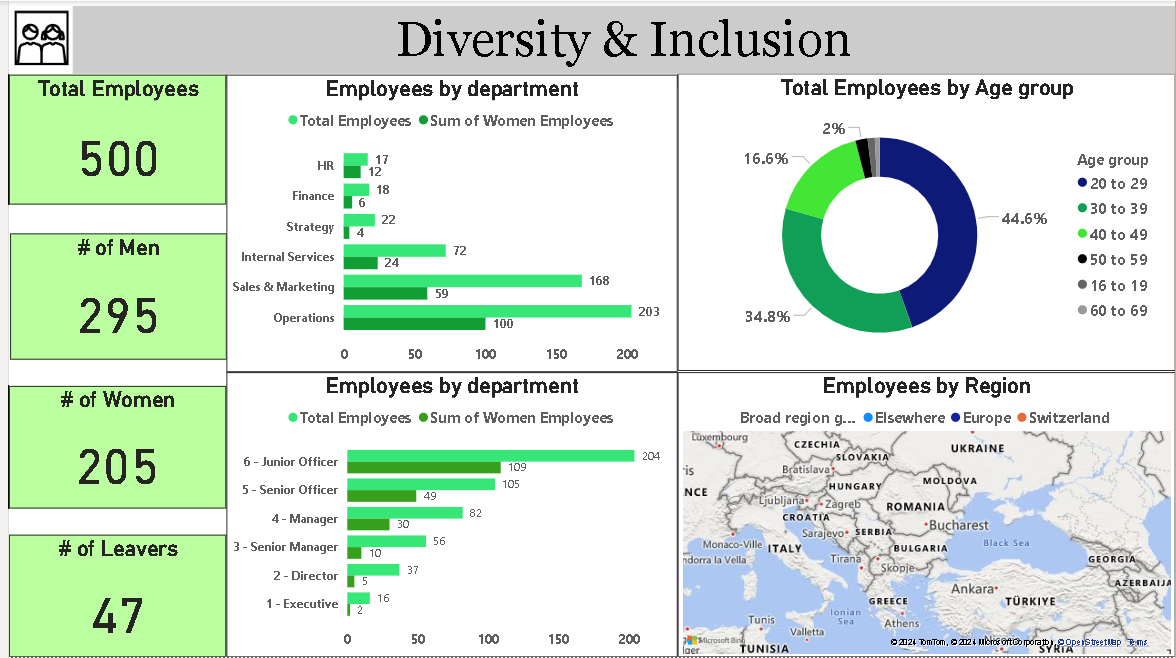

This screenshot's page, from the dashboard's own definition file:
{"tool":"powerbi","page":{"name":"Home","canvas":[1280,720],"ordinal":0},"visuals":[{"type":"card","title":"Total Employees","fields":{"Values":["Pharma Group AG.Total Employees"]},"box":[0,81,238.8,142.7],"z":0},{"type":"card","title":"# of Men","fields":{"Values":["Sum(Pharma Group AG.# of men)"]},"box":[1.4,255.2,237.4,138.6],"z":1000},{"type":"card","title":"# of Women","fields":{"Values":["Sum(Pharma Group AG.# of women)"]},"box":[0,422.6,238.8,134.5],"z":2000},{"type":"card","title":"# of Leavers","fields":{"Values":["Sum(Pharma Group AG.# of leavers)"]},"box":[0,585.9,238.8,134.5],"z":3000},{"type":"clusteredBarChart","title":"Employees by department","fields":{"Category":["Pharma Group AG.Department @01.07.2020"],"Y":["Pharma Group AG.Total Employees","Sum(Pharma Group AG.# of women)"]},"box":[238.8,81,495.4,326.6],"z":4000},{"type":"donutChart","fields":{"Y":["Pharma Group AG.Total Employees"],"Category":["Pharma Group AG.Age group"]},"box":[734.1,79.6,546.1,326.6],"z":5000},{"type":"clusteredBarChart","title":"Employees by department","fields":{"Category":["Pharma Group AG.Job Level after FY20 promotions"],"Y":["Pharma Group AG.Total Employees","Sum(Pharma Group AG.Women Employees)"]},"box":[238.8,407.5,495.4,312.9],"z":6000},{"type":"filledMap","title":"Employees by Region","fields":{"Series":["Pharma Group AG.Broad region group: nationality 1"]},"box":[734.1,407.5,546.1,312.9],"z":7000},{"type":"image","box":[1.4,0,68.6,81],"z":7001},{"type":"textbox","box":[70,5.5,1210.3,74.1],"z":7003}]}

Visuals, with their boxes in screenshot pixels (x1, y1, x2, y2), scaled from the page's 1280x720 canvas onto the 1176x658 screenshot:
"Total Employees" card: x1=0, y1=74, x2=219, y2=204
"# of Men" card: x1=1, y1=233, x2=219, y2=360
"# of Women" card: x1=0, y1=386, x2=219, y2=509
"# of Leavers" card: x1=0, y1=535, x2=219, y2=657
"Employees by department" clusteredBarChart: x1=219, y1=74, x2=675, y2=373
donutChart - Pharma Group AG.Total Employees x Pharma Group AG.Age group: x1=674, y1=73, x2=1175, y2=371
"Employees by department" clusteredBarChart: x1=219, y1=372, x2=675, y2=657
"Employees by Region" filledMap: x1=674, y1=372, x2=1175, y2=657
image: x1=1, y1=0, x2=64, y2=74
textbox: x1=64, y1=5, x2=1175, y2=73
